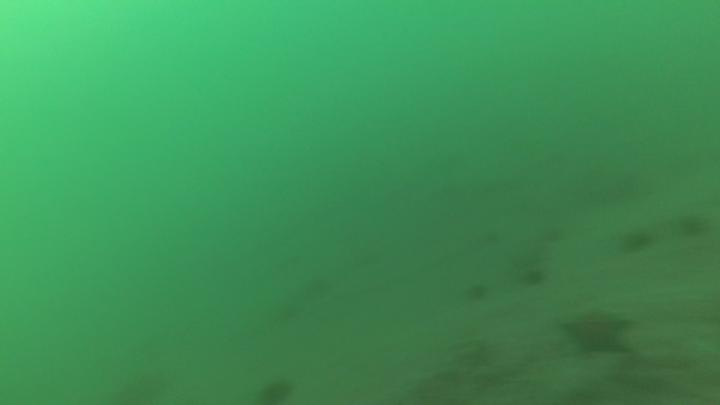echinus: (618, 227, 657, 256), (256, 378, 294, 405), (677, 211, 709, 240), (463, 279, 490, 305), (521, 267, 546, 291)
starfish: (558, 306, 642, 362)
